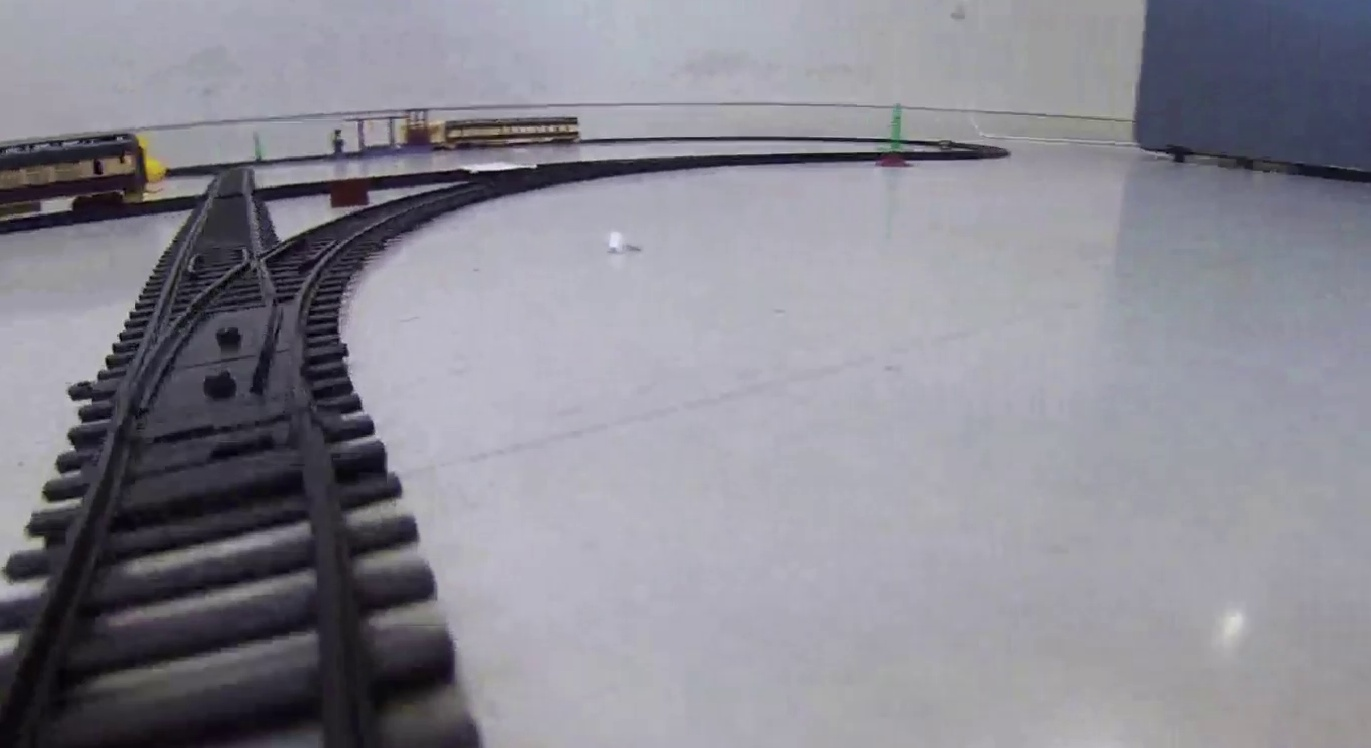box: (331, 182, 369, 207)
